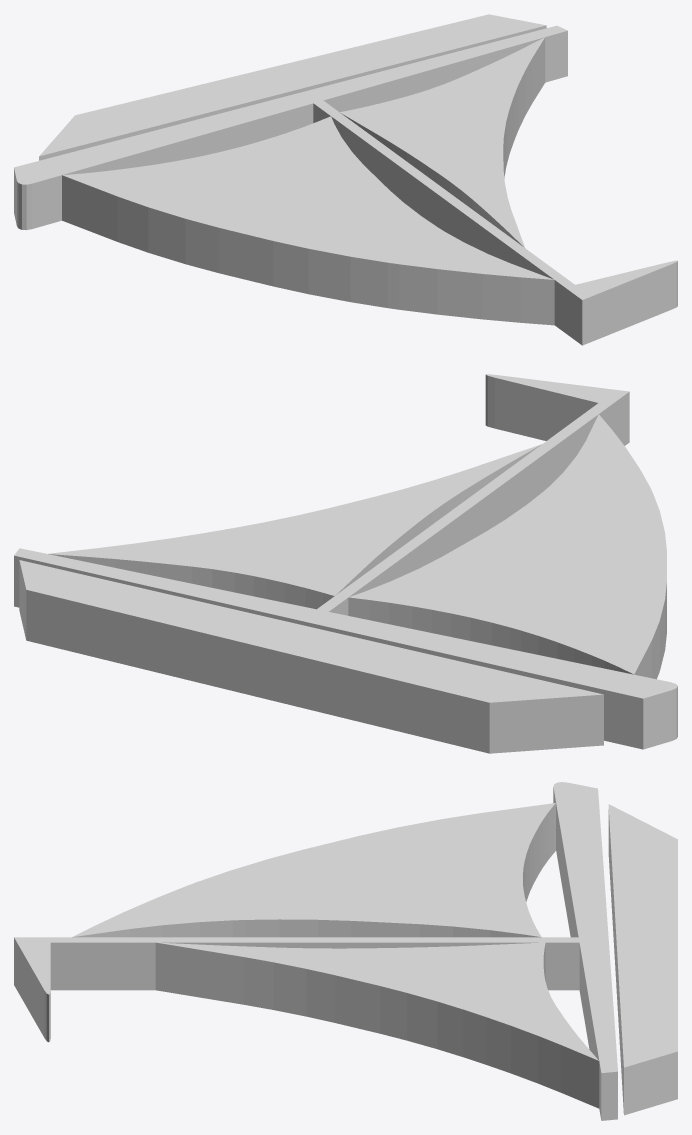
Rendered from Ship_3D.fbx.
3 views of the same model, one above another, from view 1: azimuth 30°, elevation 25°; view 2: azimuth 150°, elevation 25°; view 3: azimuth 270°, elevation 25° (orthographic). The views are drawn at different scales.
Parts seen in each view (by area): view 1: Ship_3D; view 2: Ship_3D; view 3: Ship_3D.
Part boxes in pixels (<box>): Ship_3D: <box>14,14,677,345</box>; Ship_3D: <box>14,374,677,753</box>; Ship_3D: <box>14,782,677,1120</box>.
Bounding box in the file's own units: 131 × 10 × 126.
